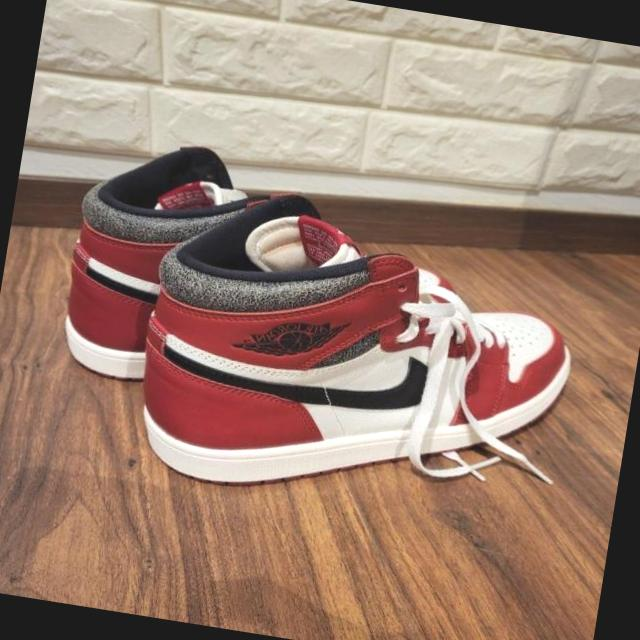nike_original_jordan: (118, 169, 599, 540)
